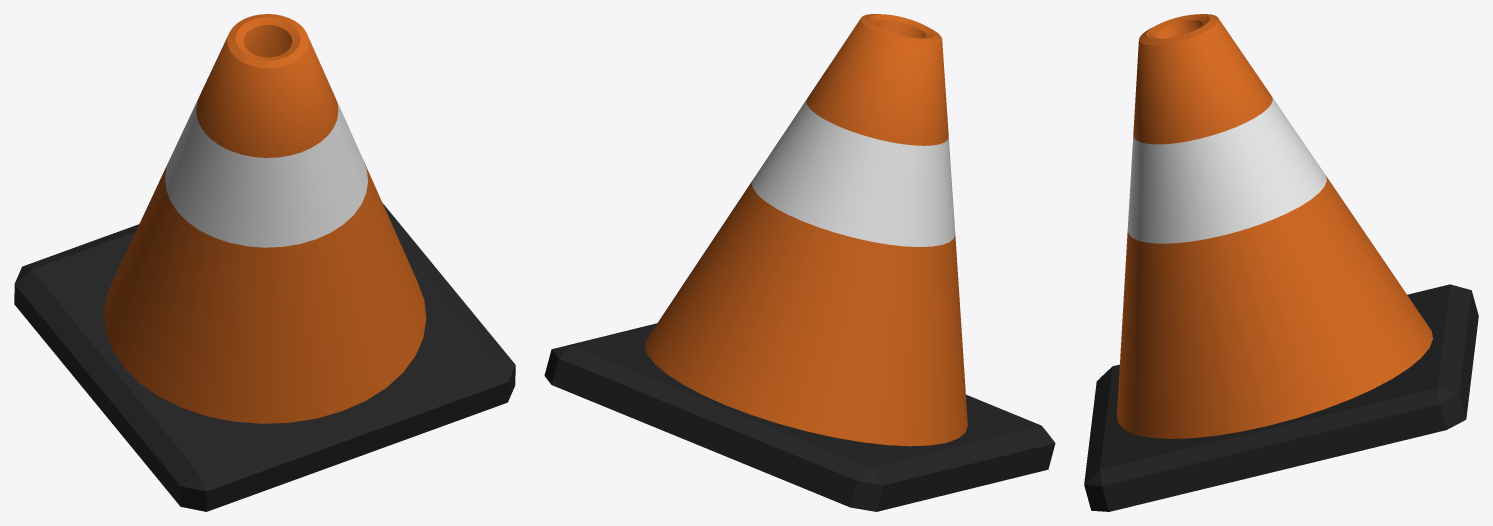
File: Hat_TrafficCone.fbx
3 renders of one model, left to right at view 1: azimuth 30°, elevation 25°; view 2: azimuth 150°, elevation 25°; view 3: azimuth 270°, elevation 25°, orthographic. The views are drawn at different scales.
Parts seen in each view (by area): view 1: Traffic Cone; view 2: Traffic Cone; view 3: Traffic Cone.
Part boxes in pixels (<box>): Traffic Cone: <box>14,14,515,511</box>; Traffic Cone: <box>544,14,1055,511</box>; Traffic Cone: <box>1084,14,1478,511</box>.
Bounding box in the file's own units: 200 × 249 × 203.
